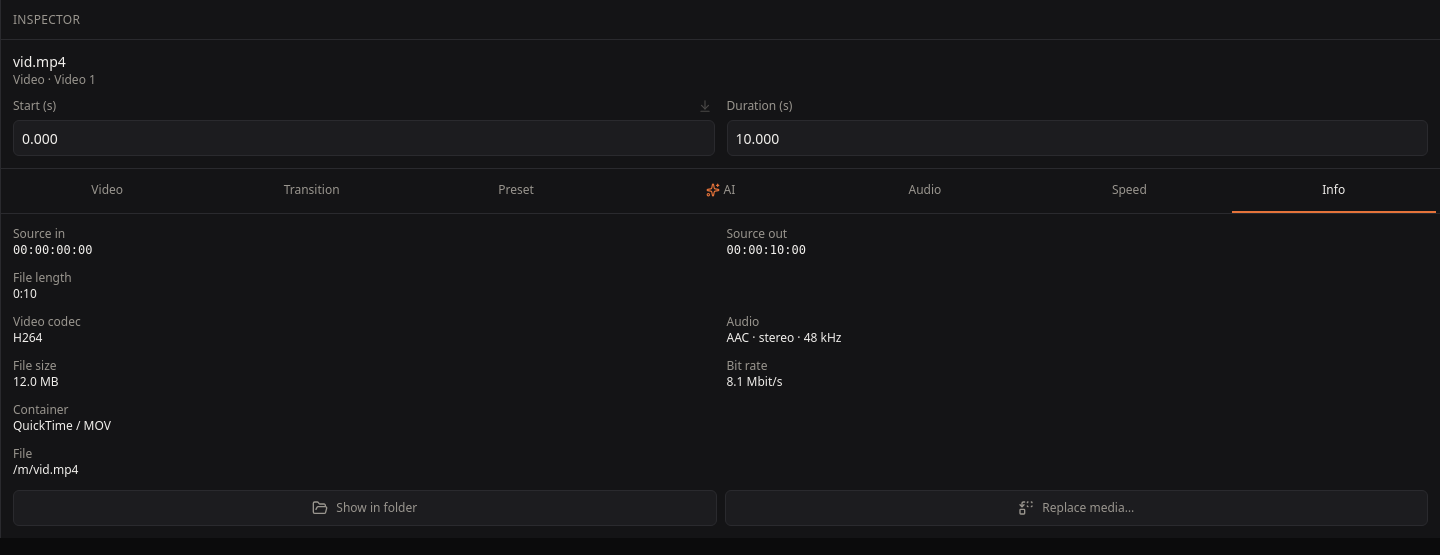
Test case: clip info › replaces the media with a file picked in Rust and reads the new file's details
What coordinates should you click on to do the following:
click the button "Replace media…"
I would click on:
 (1076, 508)
Its box is [724, 490, 1428, 526].
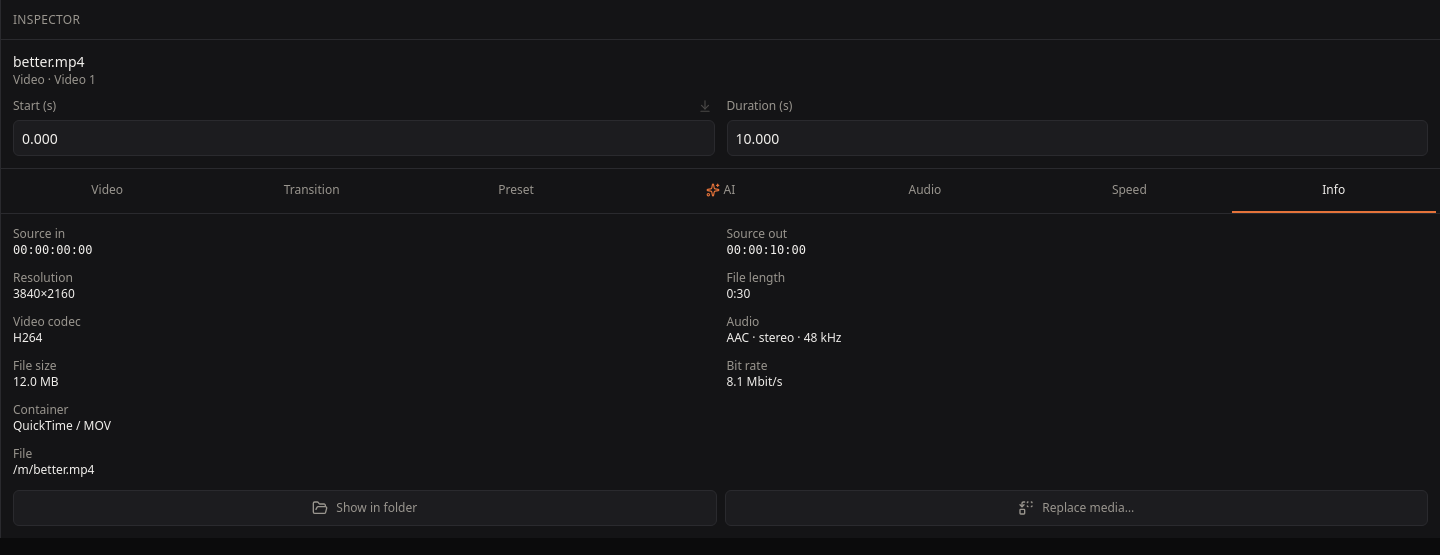
Now the text "/m/better.mp4" is shown, box [13, 461, 94, 478]
